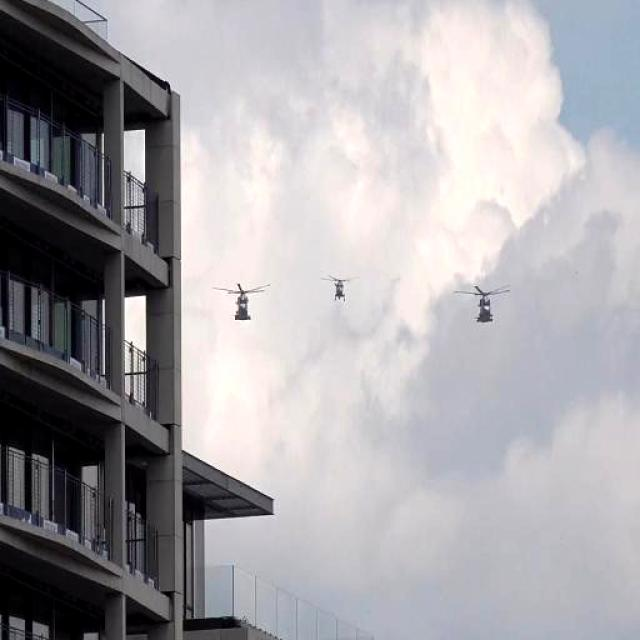drone: (212, 278, 271, 324), (461, 282, 512, 324), (326, 275, 352, 309)
